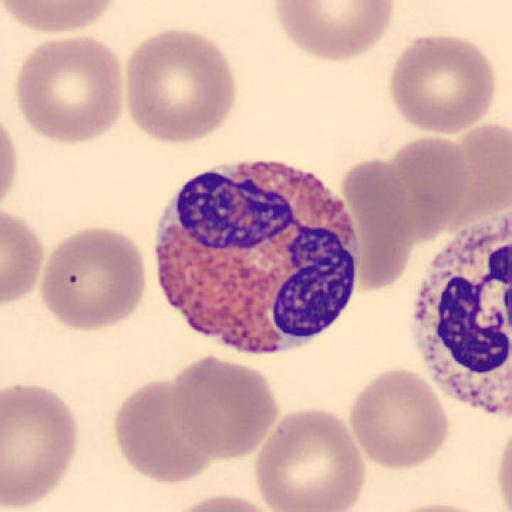RBC: (124, 26, 236, 146), (14, 35, 124, 146), (253, 406, 367, 512), (415, 120, 512, 242), (39, 224, 147, 333), (113, 376, 220, 486), (170, 354, 281, 460), (389, 33, 497, 136), (348, 365, 450, 471), (341, 154, 416, 293), (2, 381, 78, 510), (384, 136, 468, 245), (273, 0, 396, 63), (2, 207, 44, 305), (3, 0, 118, 34), (166, 493, 278, 511), (495, 414, 512, 512), (0, 117, 18, 208), (384, 499, 494, 511), (496, 434, 512, 512), (386, 502, 490, 512)
WBC: (154, 159, 361, 356), (409, 206, 512, 418)
